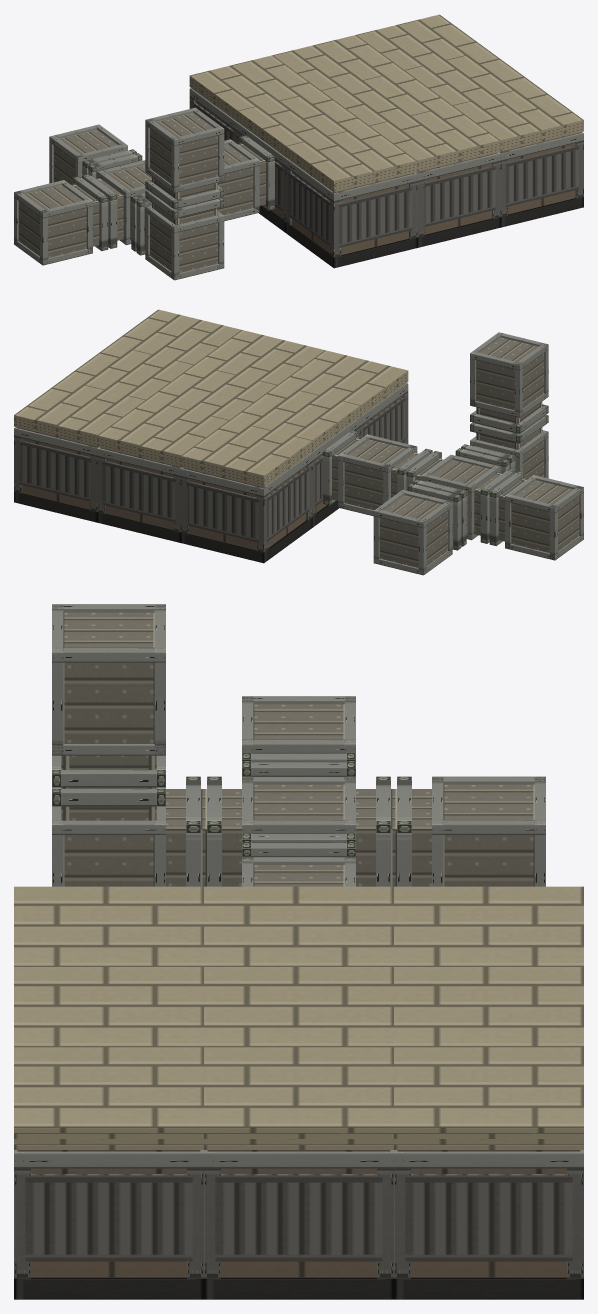
File: preview.obj
The picture shows the model from 3 angles, top to bottom: view 1: azimuth 30°, elevation 25°; view 2: azimuth 150°, elevation 25°; view 3: azimuth 270°, elevation 25°; orthographic projection. The views are drawn at different scales.
Visible parts, largest first — view 1: plate_0_2_plate_jacket, plate_2_0_heat_contact, plate_0_1_heat_contact, plate_1_2_heat_contact, plate_1_0_heat_contact, plate_1_1_heat_contact, plate_2_2_heat_contact, plate_0_0_heat_contact, plate_0_2_heat_contact, plate_2_1_heat_contact, plate_2_2_plate_jacket, plate_1_2_plate_jacket (+44 smaller); view 2: plate_0_0_plate_jacket, plate_2_2_heat_contact, plate_0_1_heat_contact, plate_1_0_heat_contact, plate_1_1_heat_contact, plate_1_2_heat_contact, plate_2_0_heat_contact, plate_0_0_heat_contact, plate_0_2_heat_contact, plate_2_1_heat_contact, plate_1_0_plate_jacket, plate_2_0_plate_jacket (+48 smaller); view 3: plate_0_0_heat_contact, plate_0_1_heat_contact, plate_0_2_heat_contact, plate_1_0_heat_contact, plate_1_1_heat_contact, plate_1_2_heat_contact, plate_2_0_heat_contact, plate_2_1_heat_contact, plate_2_2_heat_contact, plate_2_0_plate_jacket, plate_2_1_plate_jacket, plate_2_2_plate_jacket (+36 smaller).
Boxes of the visible parts, x1,y1,x2,y2 form: plate_0_2_plate_jacket: (288,173,412,247); plate_2_0_heat_contact: (356,14,487,69); plate_0_1_heat_contact: (238,90,368,145); plate_1_2_heat_contact: (369,105,500,160); plate_1_0_heat_contact: (273,35,403,90); plate_1_1_heat_contact: (321,70,451,125); plate_2_2_heat_contact: (453,85,583,140); plate_0_0_heat_contact: (190,55,320,110); plate_0_2_heat_contact: (286,125,416,180); plate_2_1_heat_contact: (405,49,535,105); plate_2_2_plate_jacket: (505,145,578,206); plate_1_2_plate_jacket: (424,166,495,226); plate_0_0_plate_jacket: (185,468,309,542); plate_2_2_heat_contact: (110,309,241,364); plate_0_1_heat_contact: (229,385,359,440); plate_1_0_heat_contact: (97,400,228,455); plate_1_1_heat_contact: (146,365,276,420); plate_1_2_heat_contact: (194,330,324,385); plate_2_0_heat_contact: (14,380,144,435); plate_0_0_heat_contact: (181,420,311,475); plate_0_2_heat_contact: (277,350,407,405); plate_2_1_heat_contact: (62,344,192,400); plate_1_0_plate_jacket: (102,461,175,522); plate_2_0_plate_jacket: (19,440,91,501); plate_0_0_heat_contact: (394,886,583,966); plate_0_1_heat_contact: (204,886,393,966); plate_0_2_heat_contact: (14,886,203,966); plate_1_0_heat_contact: (394,967,583,1047); plate_1_1_heat_contact: (204,967,393,1047); plate_1_2_heat_contact: (14,967,203,1047); plate_2_0_heat_contact: (394,1047,583,1127); plate_2_1_heat_contact: (204,1047,393,1127); plate_2_2_heat_contact: (14,1047,203,1127); plate_2_0_plate_jacket: (405,1174,572,1261); plate_2_1_plate_jacket: (215,1174,382,1261); plate_2_2_plate_jacket: (25,1174,192,1261).
Bounding box in the file's own units: 5.8 × 1.8 × 3.
Materials: 1 (1 with a texture image).
